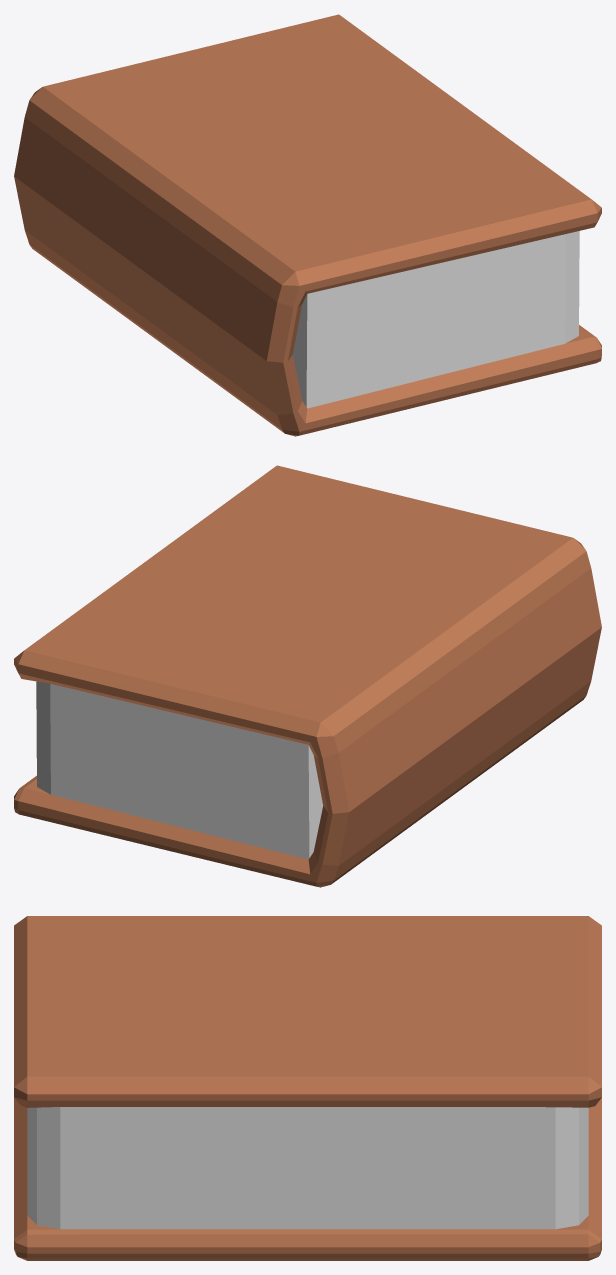
Rendered from Book4.fbx.
3 views of the same model, one above another, from view 1: azimuth 30°, elevation 25°; view 2: azimuth 150°, elevation 25°; view 3: azimuth 270°, elevation 25° (orthographic). The views are drawn at different scales.
Parts seen in each view (by area): view 1: Book4; view 2: Book4; view 3: Book4.
Boxes of the visible parts, x1,y1,x2,y2 form: Book4: [14, 14, 601, 436]; Book4: [14, 465, 601, 887]; Book4: [14, 916, 601, 1260].
Bounding box in the file's own units: 0.2573 × 0.121 × 0.3517.
1 material, 1 textured.
